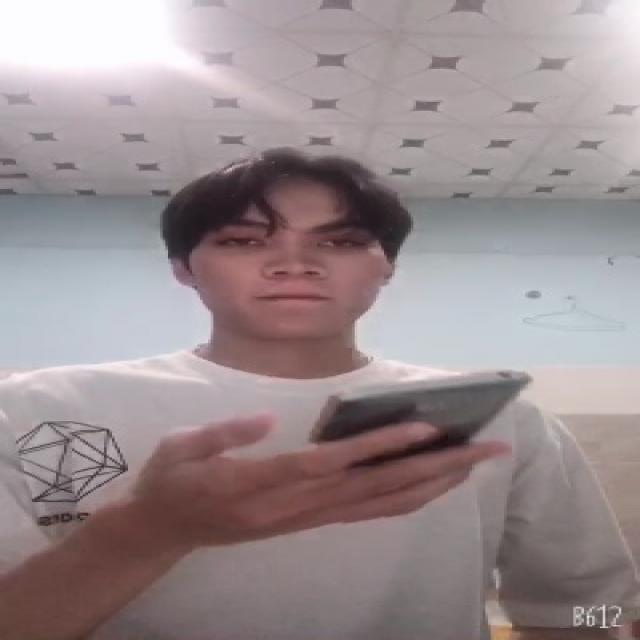Phone: (310, 366, 536, 450)
